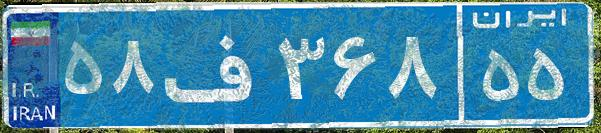3: (273, 28, 330, 110)
5: (57, 26, 110, 107), (475, 38, 525, 113), (525, 38, 570, 115)
6: (330, 28, 385, 110)
8: (385, 28, 445, 110), (110, 28, 158, 105)
ف: (158, 15, 273, 115)
